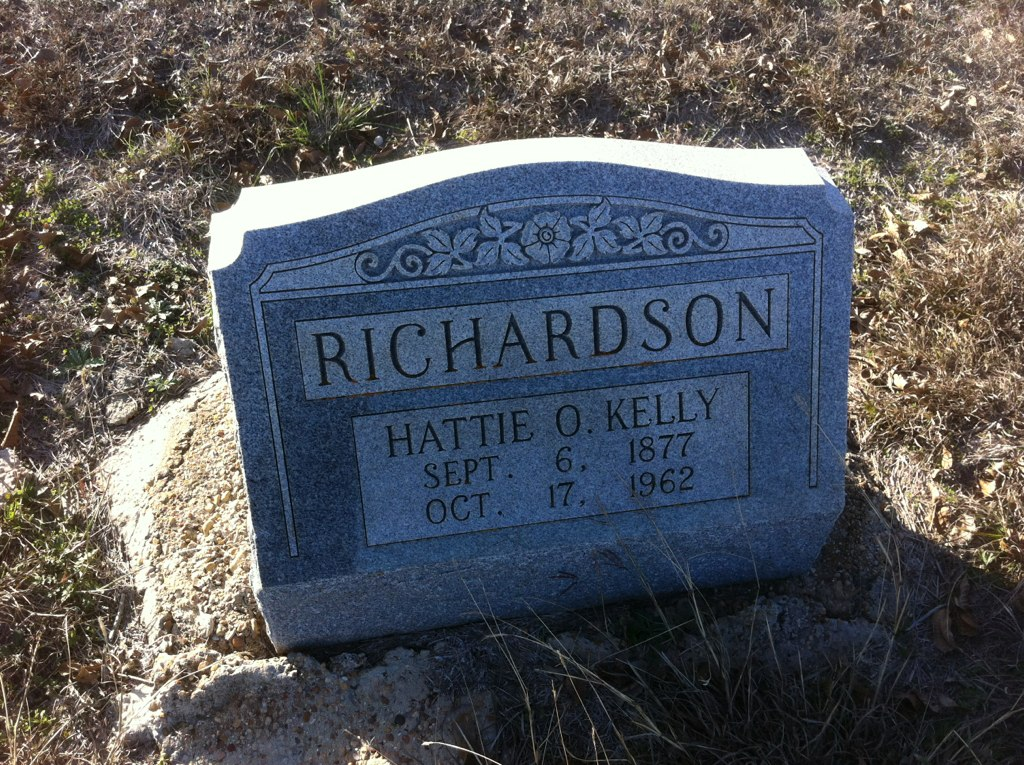slant: (200, 144, 850, 664)
